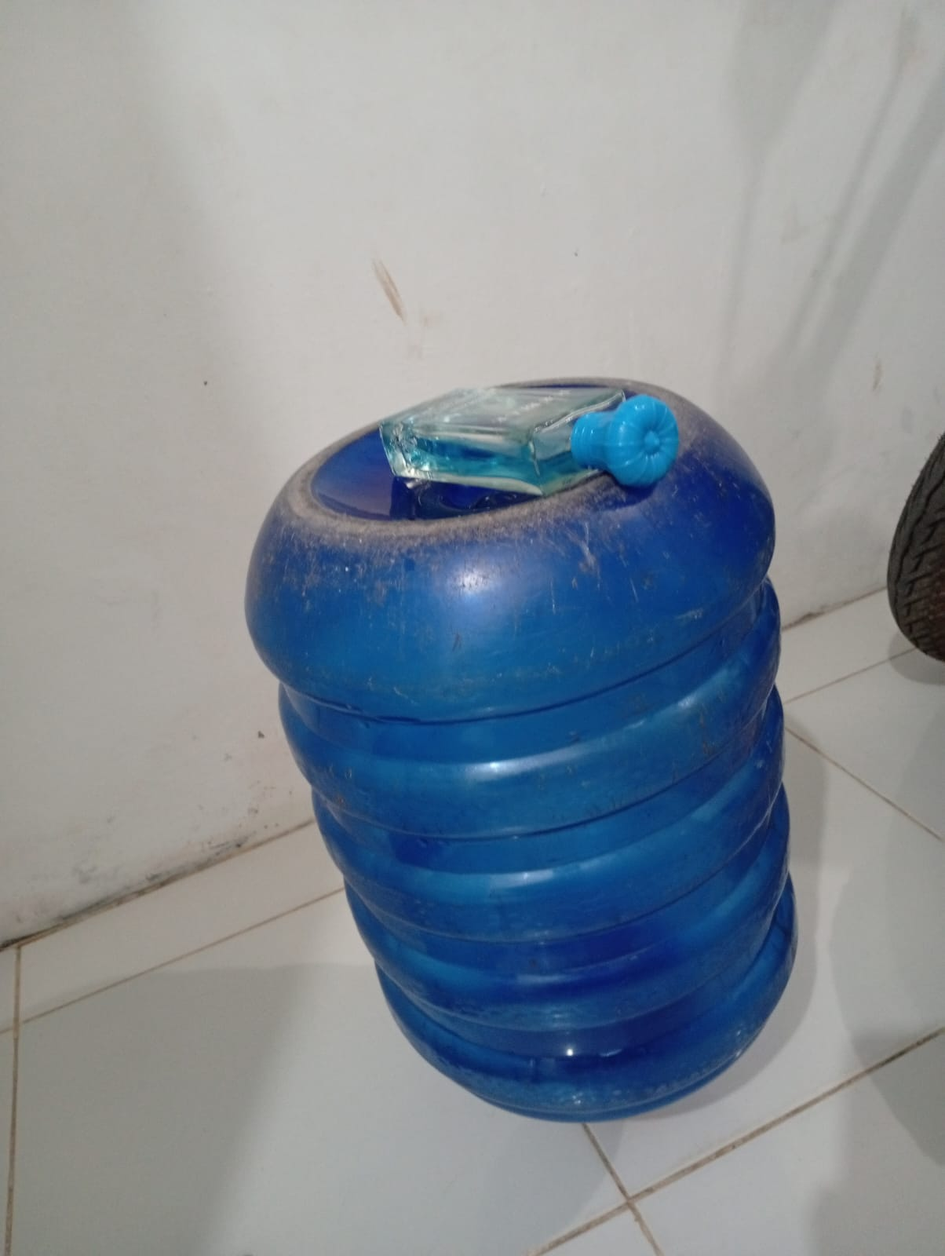Parfum: (371, 364, 692, 526)
